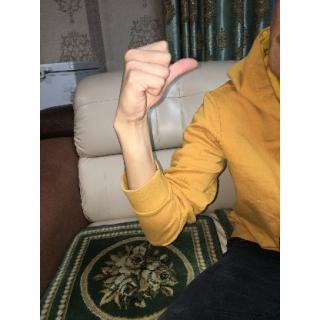WAW: (107, 37, 199, 131)
